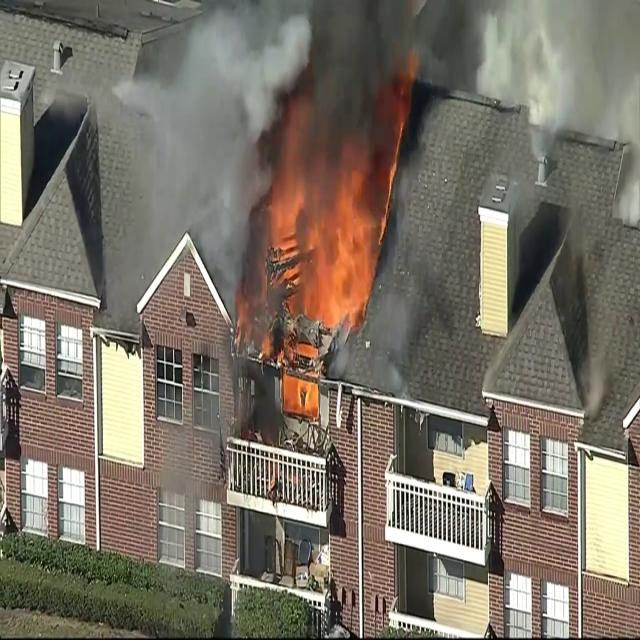Fire: (256, 150, 380, 408)
Smoke: (105, 2, 402, 280), (480, 0, 640, 196)
